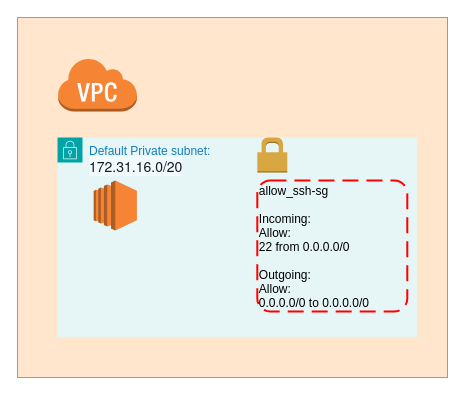
This 465x395 diagram has some shape labels left out. Here are the shapes that lost their labels. From the top down, the centre of each, then its label:
At (96,84): "Default".
At (115,205): "VirtualMachine-1 t3.nano Private IP Public IP".
